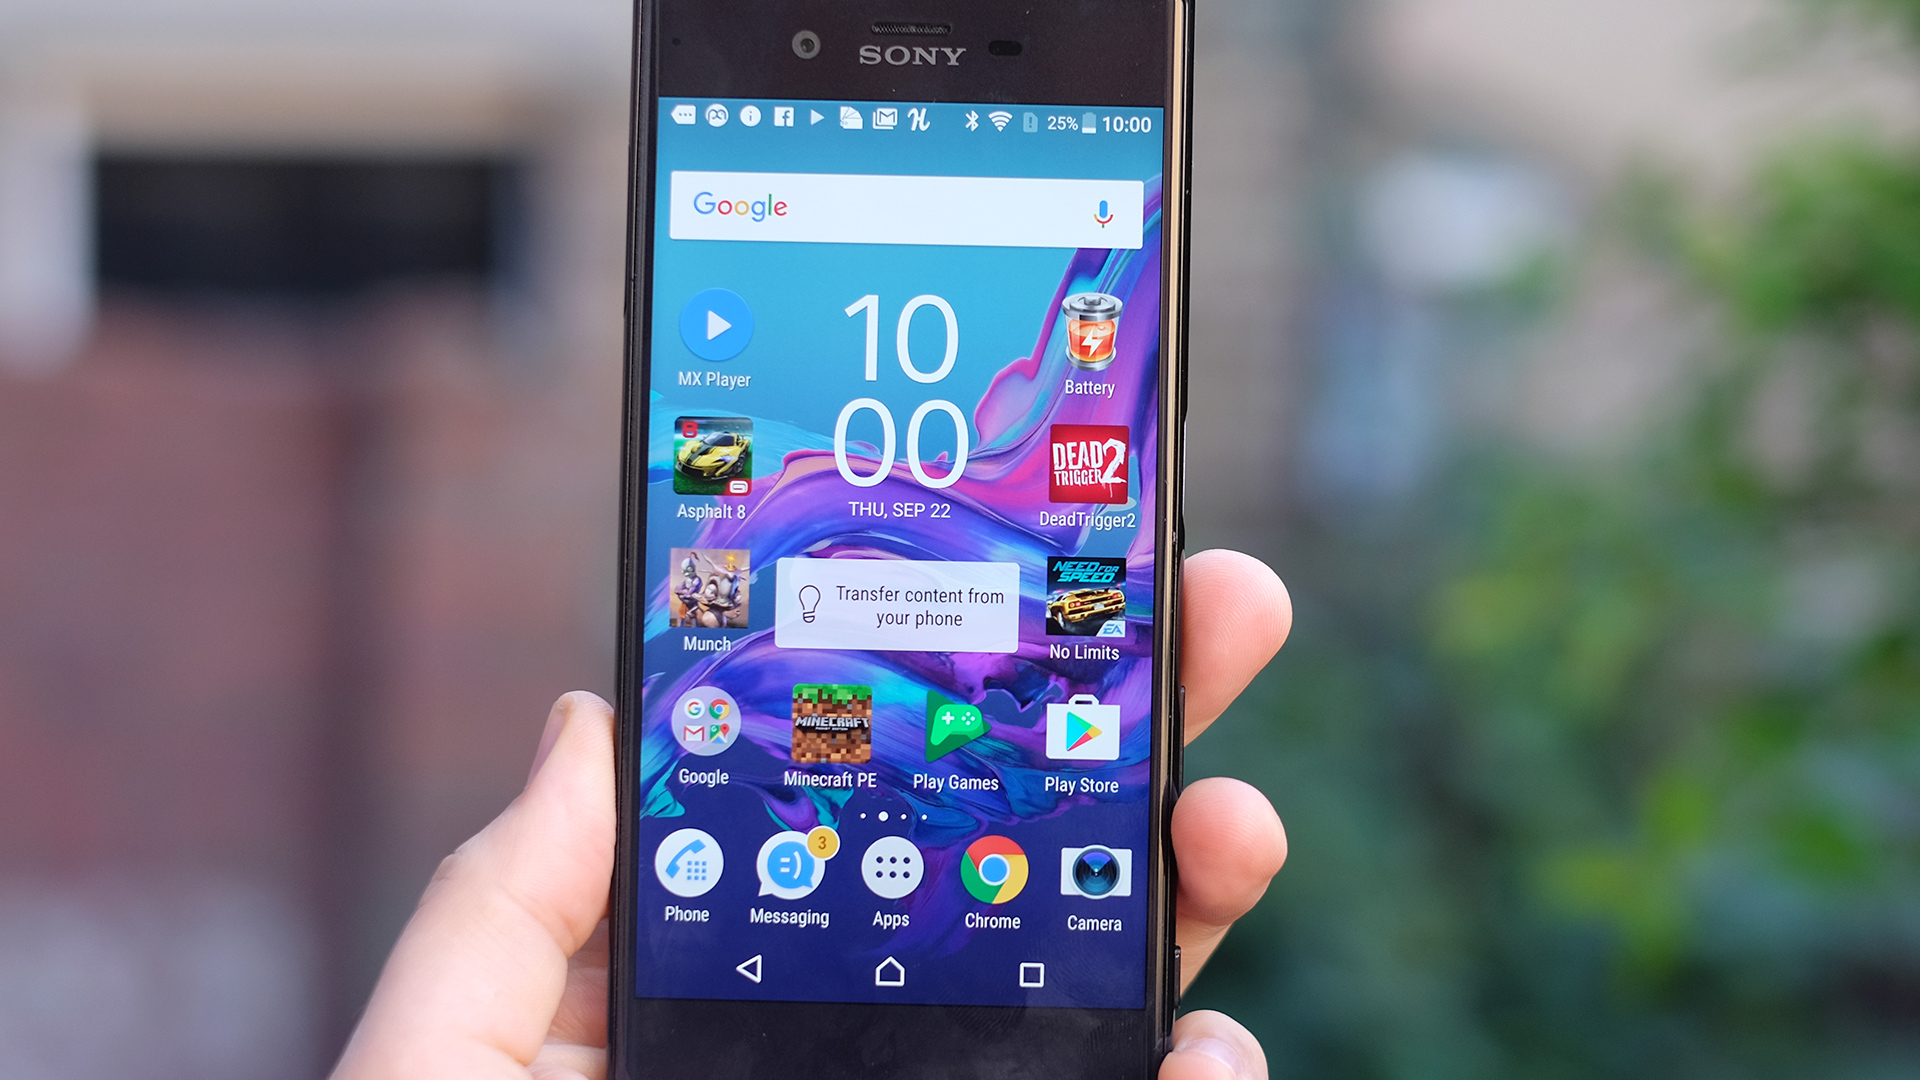smartphone: (605, 1, 1199, 1080)
